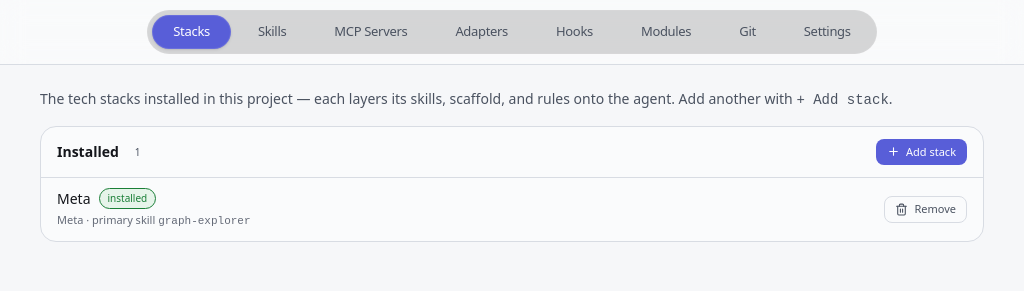
Test: ConfigPage › switches to the Skills tab on click
The width and height of the screenshot is (1024, 291).
Click the tab "Skills" at (272, 32), box [237, 15, 307, 48]
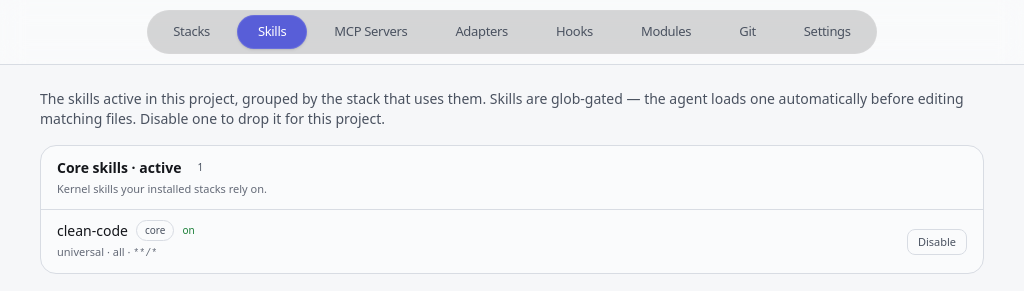
Expected: the text "clean-code" is shown, [57, 221, 128, 240]
